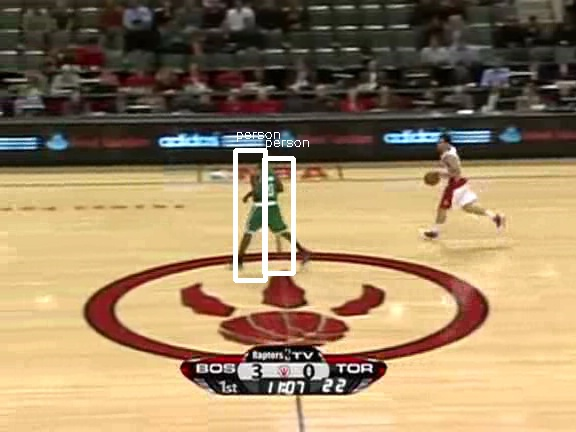person: (250, 163, 284, 244), (249, 163, 283, 244), (251, 163, 285, 244), (250, 162, 284, 243), (250, 164, 284, 245)
target_negative: (289, 106, 565, 185), (447, 234, 538, 320), (454, 209, 539, 266), (442, 235, 482, 292), (527, 102, 569, 106)
